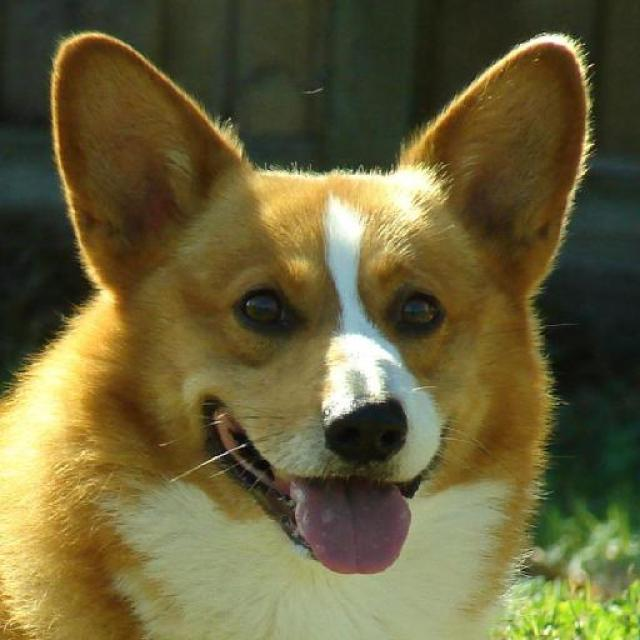happy: (21, 6, 640, 609)
